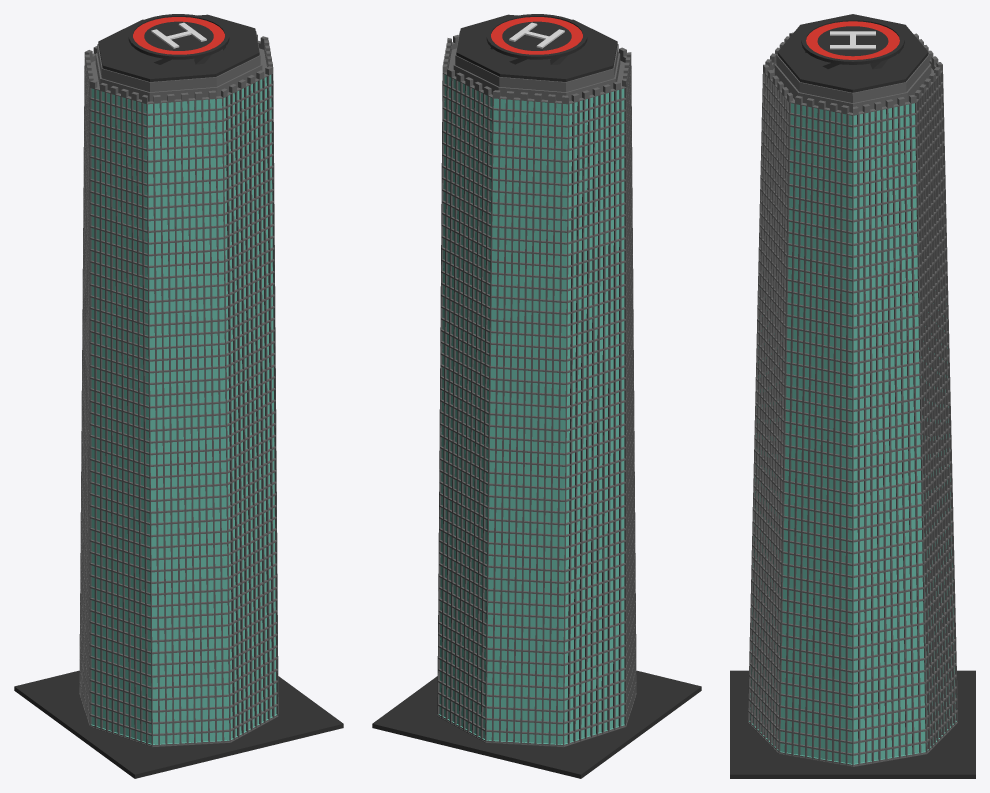
3 views of the same model, side by side, from view 1: azimuth 30°, elevation 25°; view 2: azimuth 150°, elevation 25°; view 3: azimuth 270°, elevation 25° (orthographic).
Parts seen in each view (by area): view 1: Cylinder.047, Floor.017, Circle.012; view 2: Cylinder.047, Floor.017, Circle.012; view 3: Cylinder.047, Floor.017, Circle.012, Text.
Part boxes in pixels (left/top/right/bottom): Cylinder.047: left=79, top=14, right=278, bottom=747; Floor.017: left=14, top=670, right=343, bottom=778; Circle.012: left=128, top=14, right=229, bottom=64; Cylinder.047: left=437, top=14, right=636, bottom=747; Floor.017: left=372, top=670, right=701, bottom=778; Circle.012: left=486, top=14, right=587, bottom=64; Cylinder.047: left=748, top=14, right=957, bottom=766; Floor.017: left=730, top=670, right=975, bottom=778; Circle.012: left=801, top=18, right=904, bottom=69; Text: left=830, top=31, right=875, bottom=49.
Size of the model in its own units: 800 by 2468 by 800.
